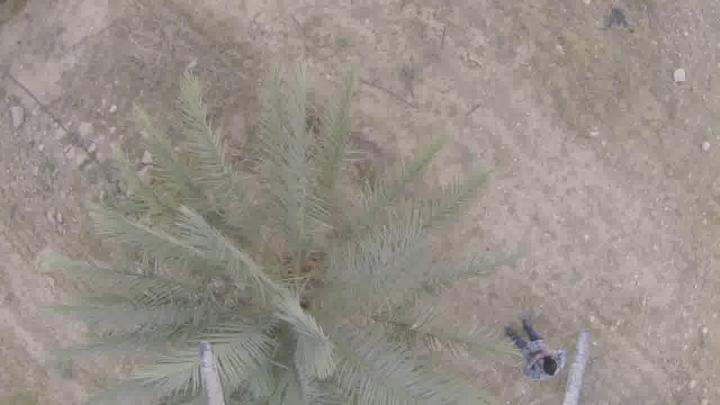Date-Palm-Crown: (168, 169, 404, 404)
